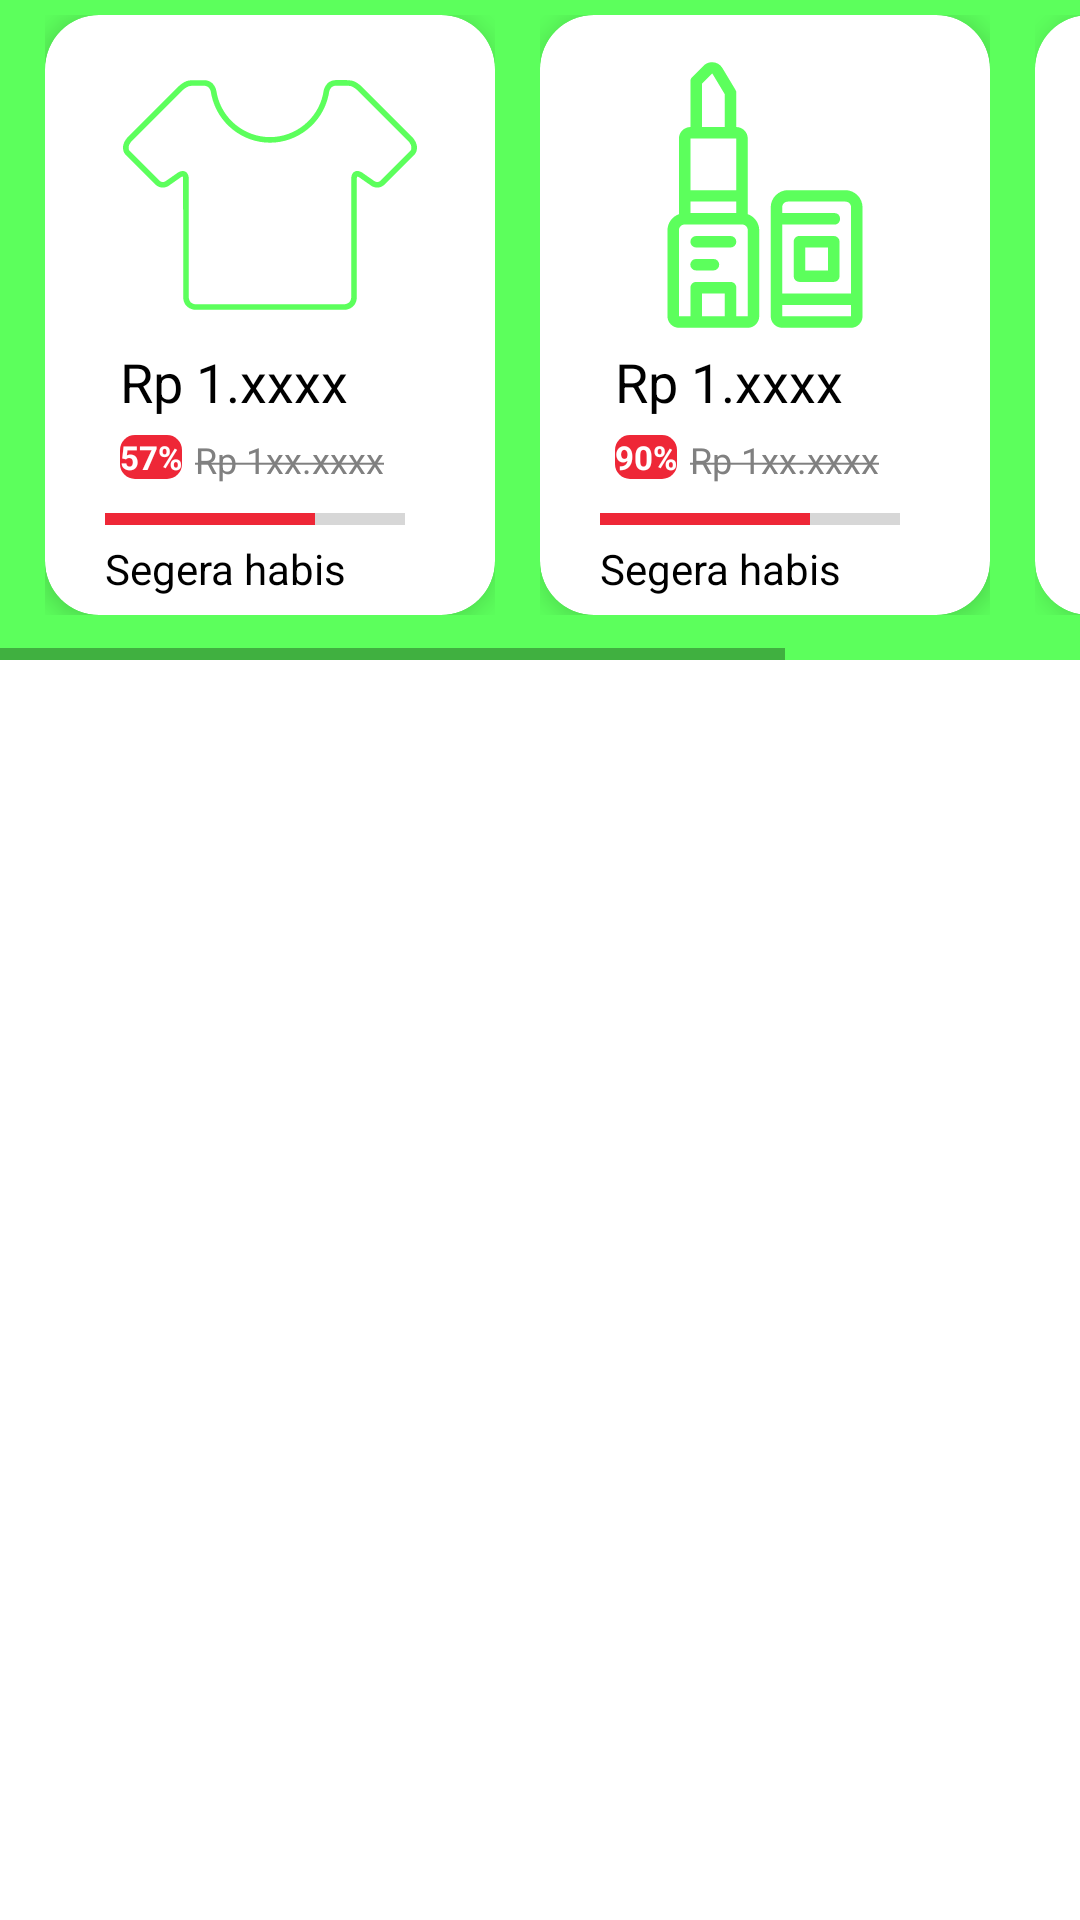

Named icons in this screenshot (1080px×1920px) and their bounding boxes, Rect(x1, y1, x2, y2):
clothes tokped: Rect(123, 80, 417, 310)
lipstick: Rect(667, 62, 863, 328)
